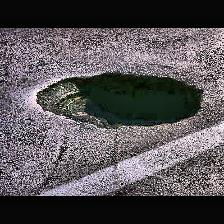pothole: (31, 70, 205, 130)
